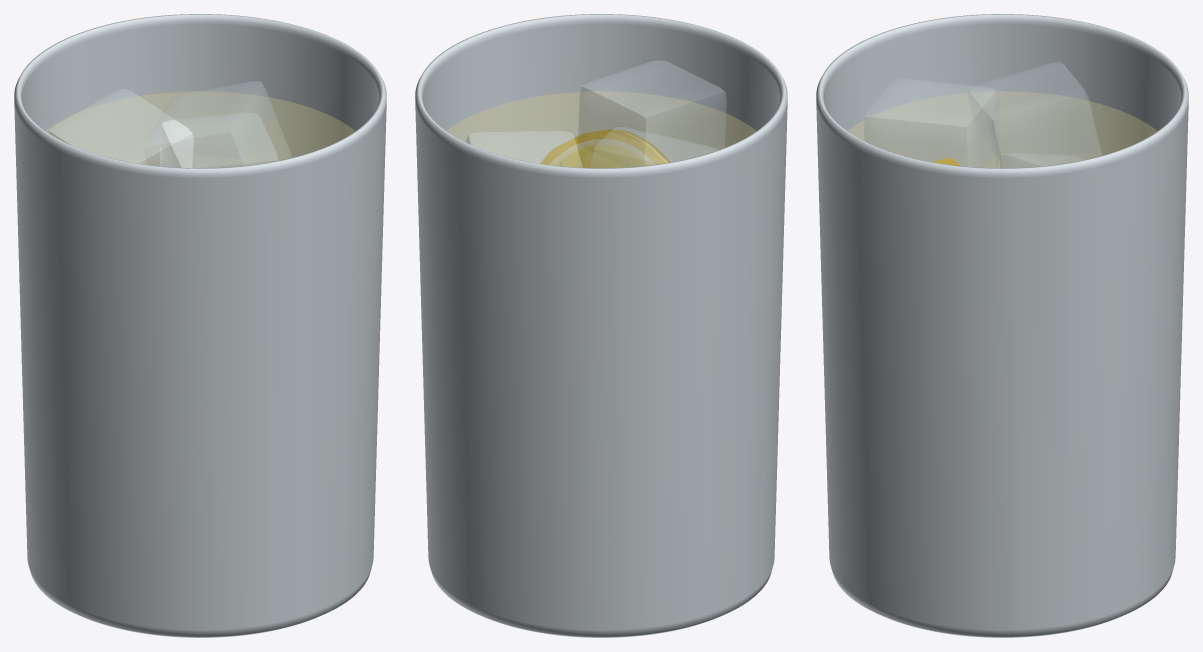
The model's file is lemon-soda-0.glb.
The picture shows the model from 3 angles, left to right: view 1: azimuth 30°, elevation 25°; view 2: azimuth 150°, elevation 25°; view 3: azimuth 270°, elevation 25°; orthographic projection.
Visible parts, largest first — view 1: glass, liquid, ice_02, ice_01, ice_03; view 2: glass, liquid, ice_03, lemon_01, ice_01, ice_02; view 3: glass, liquid, ice_01, ice_03, ice_02.
Boxes of the visible parts, x1=… form: glass: x1=14, y1=14, x2=386, y2=637; liquid: x1=46, y1=91, x2=354, y2=167; ice_02: x1=144, y1=81, x2=291, y2=167; ice_01: x1=49, y1=89, x2=193, y2=167; ice_03: x1=160, y1=112, x2=278, y2=167; glass: x1=415, y1=14, x2=787, y2=637; liquid: x1=447, y1=92, x2=755, y2=167; ice_03: x1=577, y1=60, x2=726, y2=167; lemon_01: x1=540, y1=129, x2=670, y2=167; ice_01: x1=589, y1=127, x2=717, y2=167; ice_02: x1=466, y1=131, x2=582, y2=167; glass: x1=816, y1=14, x2=1188, y2=637; liquid: x1=848, y1=92, x2=1156, y2=167; ice_01: x1=968, y1=62, x2=1101, y2=167; ice_03: x1=864, y1=79, x2=999, y2=167; ice_02: x1=998, y1=153, x2=1084, y2=167.
Bounding box in the file's own units: 0.085 × 0.12 × 0.085.
Materials: 7 (1 with a texture image).
